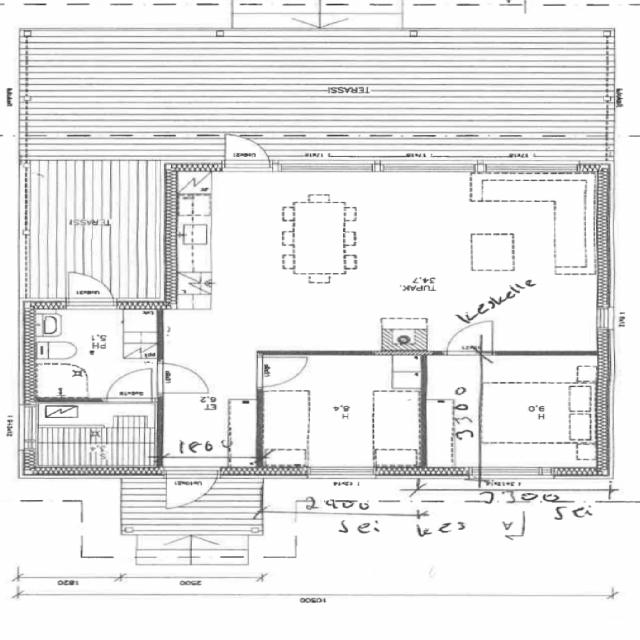door: (166, 467, 217, 512), (68, 268, 114, 308), (225, 131, 269, 171), (106, 367, 152, 402), (256, 357, 308, 387), (157, 362, 209, 392), (446, 321, 491, 355)
